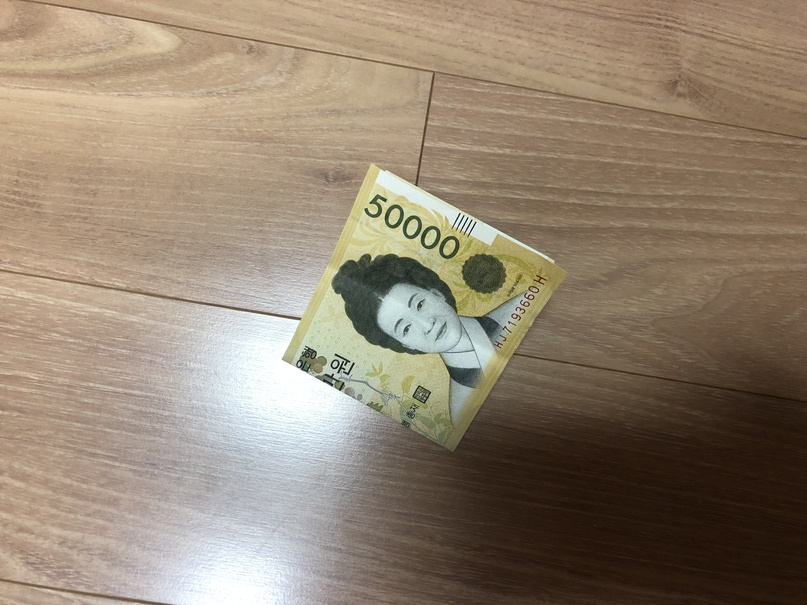50000won: (279, 159, 567, 452)
